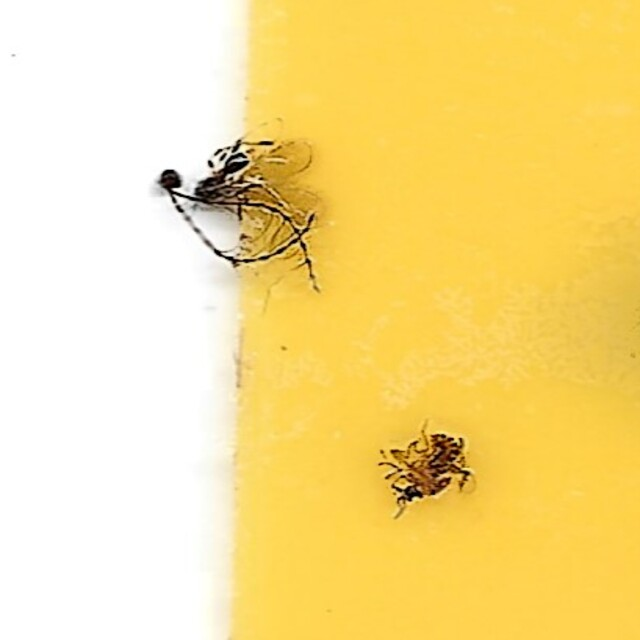Hymenoptera: (156, 130, 324, 295)
Nematocera: (382, 421, 484, 510)
